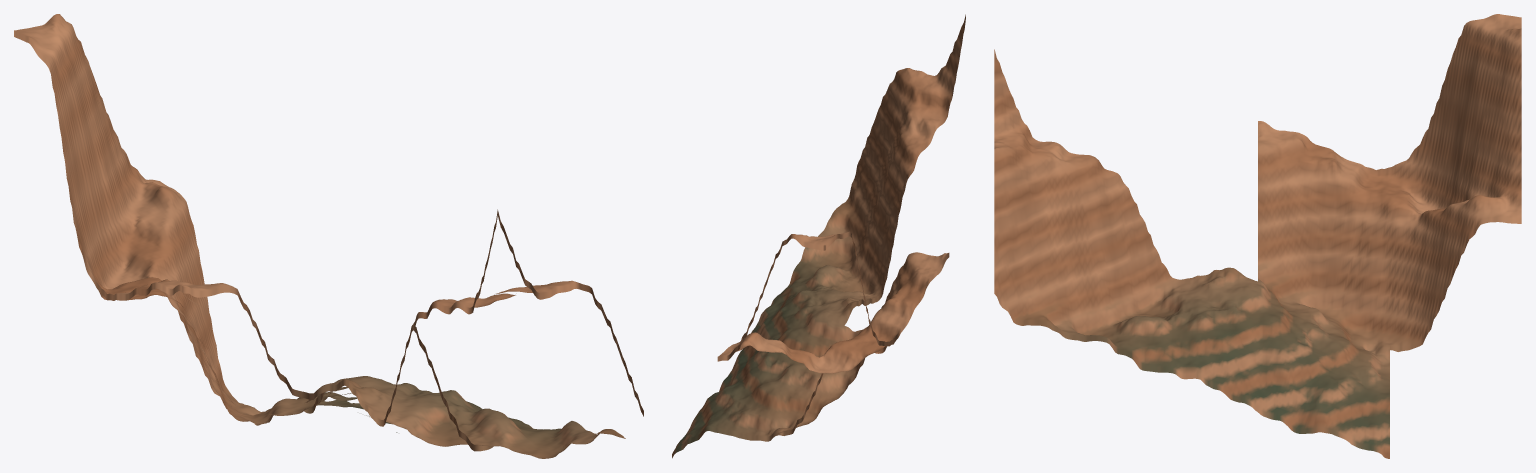
File: terrain-021.glb
3 renders of one model, left to right at view 1: azimuth 30°, elevation 25°; view 2: azimuth 150°, elevation 25°; view 3: azimuth 270°, elevation 25°, orthographic. The views are drawn at different scales.
Visible parts, largest first — view 1: terrain-021; view 2: terrain-021; view 3: terrain-021.
Part boxes in pixels (box(x1,y1,x2,y2)): terrain-021: box(14, 14, 643, 458); terrain-021: box(672, 14, 965, 458); terrain-021: box(994, 14, 1521, 458).
Size of the model in its own units: 192 by 286 by 384.
